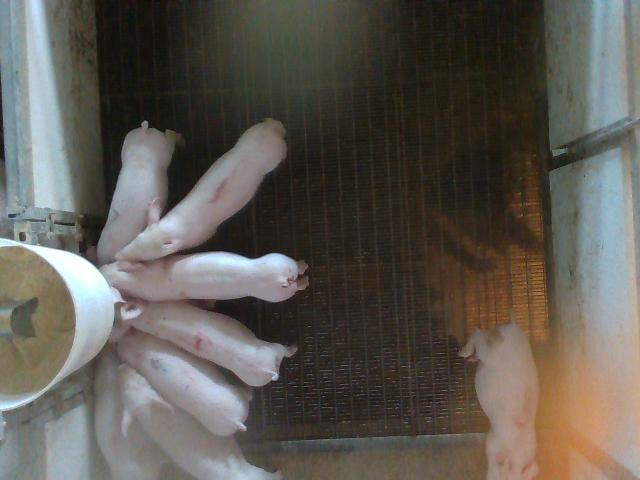pig-1: (118, 119, 286, 261)
pig-3: (460, 320, 539, 478)
pig-4: (128, 301, 296, 386)
